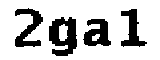1: (118, 6, 148, 52)
2: (13, 6, 44, 49)
a: (85, 18, 111, 49)
g: (47, 15, 80, 59)
